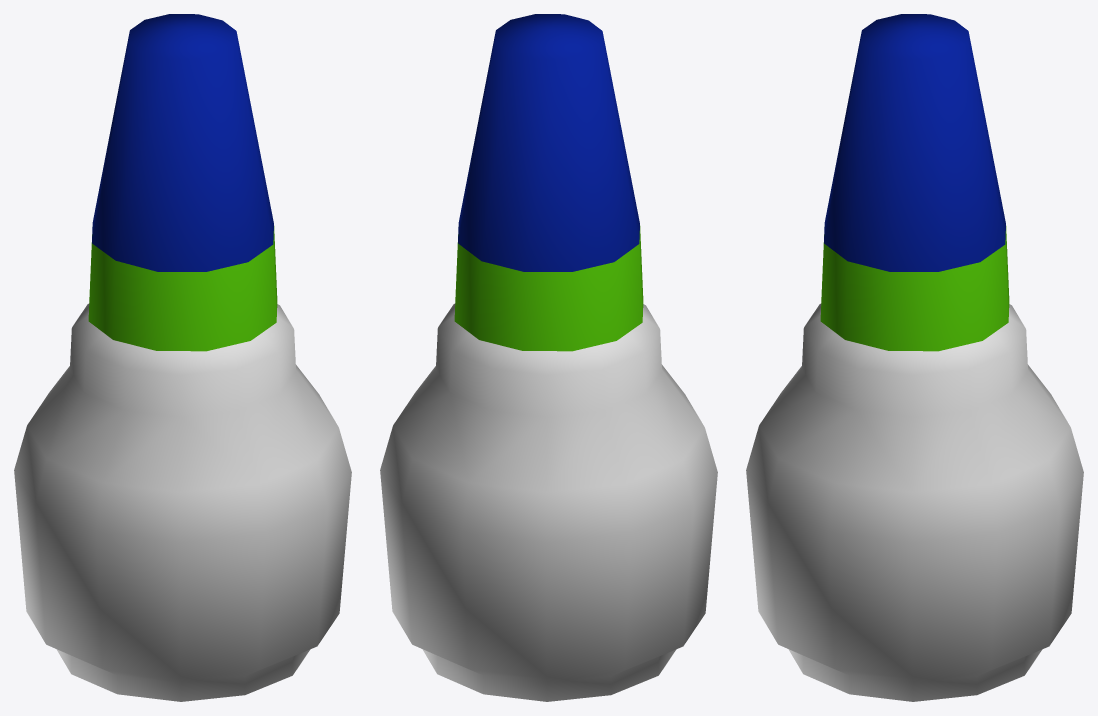
The model's file is NailPolish_unity.FBX.
The picture shows the model from 3 angles, left to right: view 1: azimuth 30°, elevation 25°; view 2: azimuth 150°, elevation 25°; view 3: azimuth 270°, elevation 25°; orthographic projection.
Parts seen in each view (by area): view 1: Prod_NailPolish; view 2: Prod_NailPolish; view 3: Prod_NailPolish.
Part boxes in pixels (box(x1,y1,x2,y2)): Prod_NailPolish: box(14, 14, 351, 701); Prod_NailPolish: box(380, 14, 717, 701); Prod_NailPolish: box(746, 14, 1083, 701).
Bounding box in the file's own units: 4.96 × 10.02 × 4.96.
